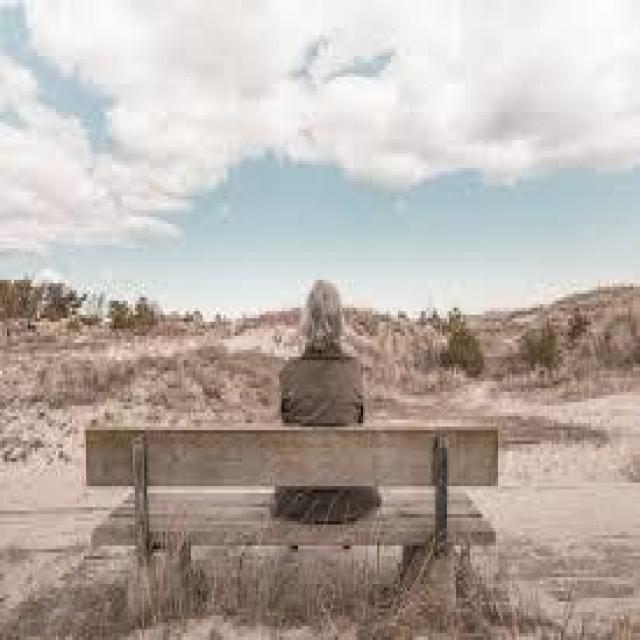person: (273, 266, 387, 532)
